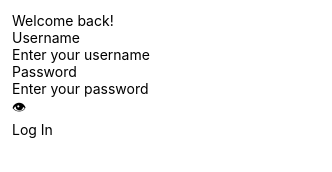
it: LoginScreen - Comprehensive Test Suite › 🌐 Internacionalización › muestra errores en el idioma correspondiente
This screenshot has width=332, height=172.
Click the button "Log In" at (121, 130), box [12,121,230,138]
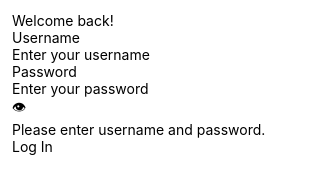
Now the text "Please enter username and password." is shown, box [12,121,265,138]
